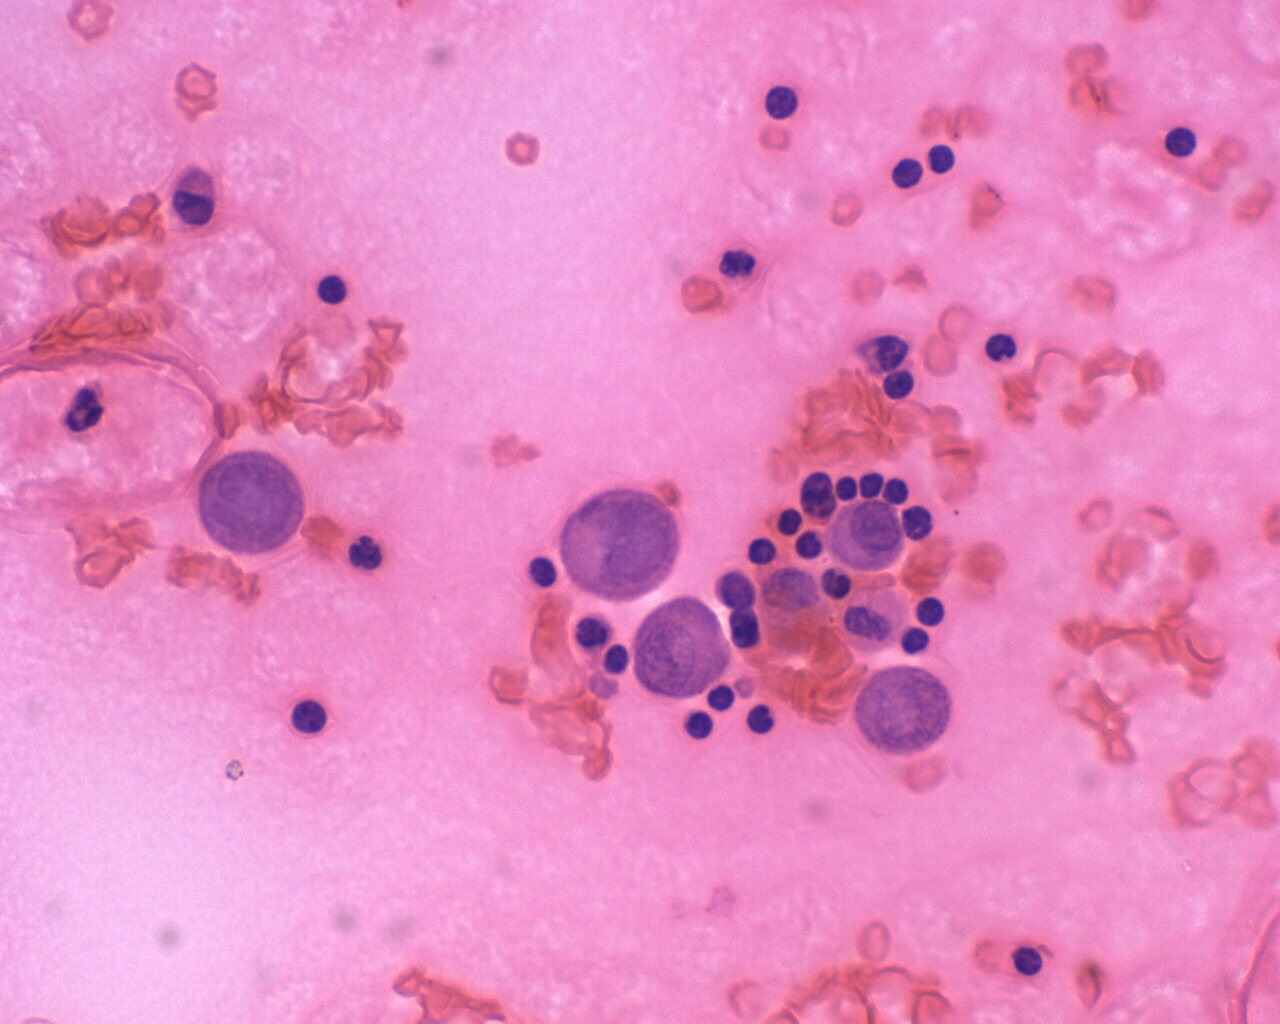ab: (561, 486, 682, 606), (630, 596, 737, 704), (197, 453, 306, 559), (851, 660, 956, 761)
lymph: (287, 688, 329, 743), (1004, 939, 1050, 983), (1160, 123, 1208, 165), (761, 80, 802, 126), (311, 269, 352, 312), (679, 706, 720, 750), (908, 592, 952, 630), (924, 142, 963, 181)
meso: (827, 499, 906, 576)
